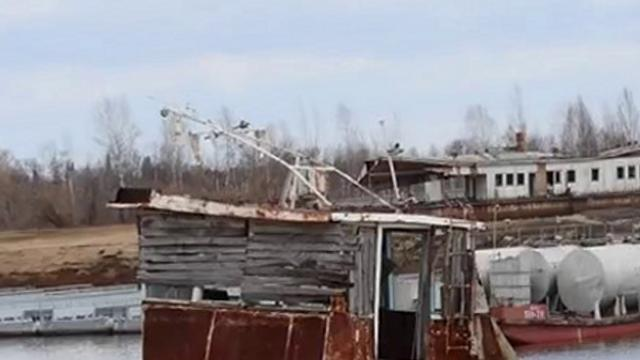rust: (138, 303, 384, 358), (488, 195, 638, 214), (425, 315, 478, 358), (256, 204, 325, 223)
